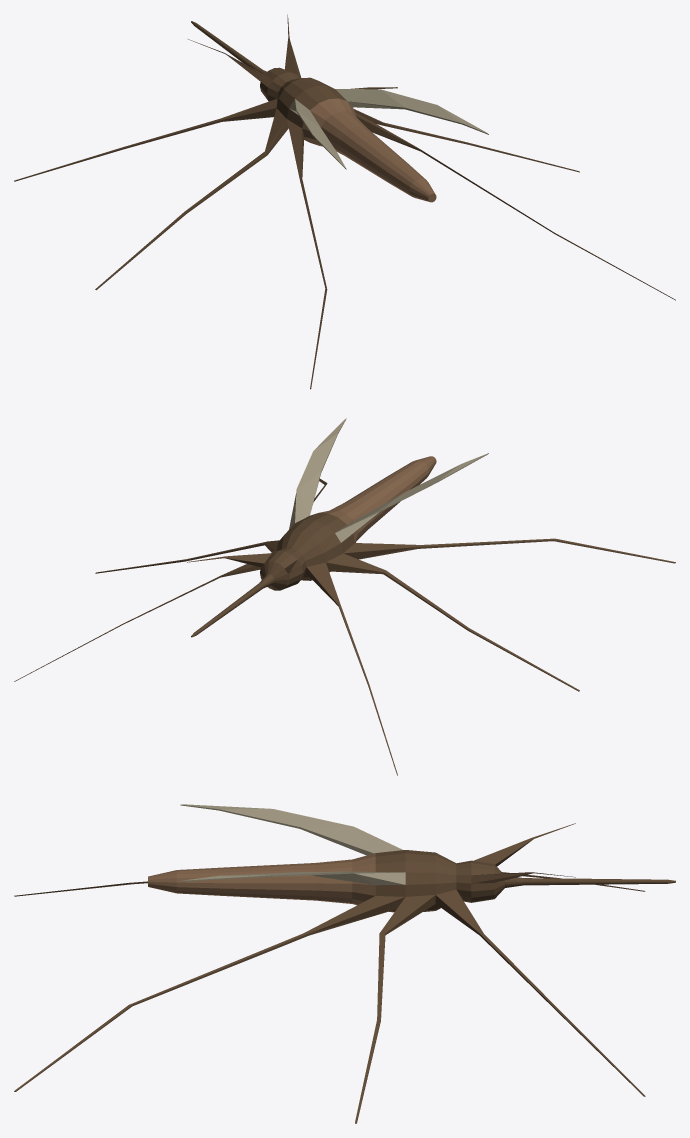
File: NEW_RECOVERY_070_LOD1.fbx
3 views of the same model, one above another, from view 1: azimuth 30°, elevation 25°; view 2: azimuth 150°, elevation 25°; view 3: azimuth 270°, elevation 25° (orthographic). The views are drawn at different scales.
Parts seen in each view (by area): view 1: Mosquito; view 2: Mosquito; view 3: Mosquito.
Part boxes in pixels (x1,y1,x2,y2): Mosquito: (14,14,675,389); Mosquito: (14,418,675,775); Mosquito: (14,804,675,1123).
Size of the model in its own units: 530 by 573 by 145.
